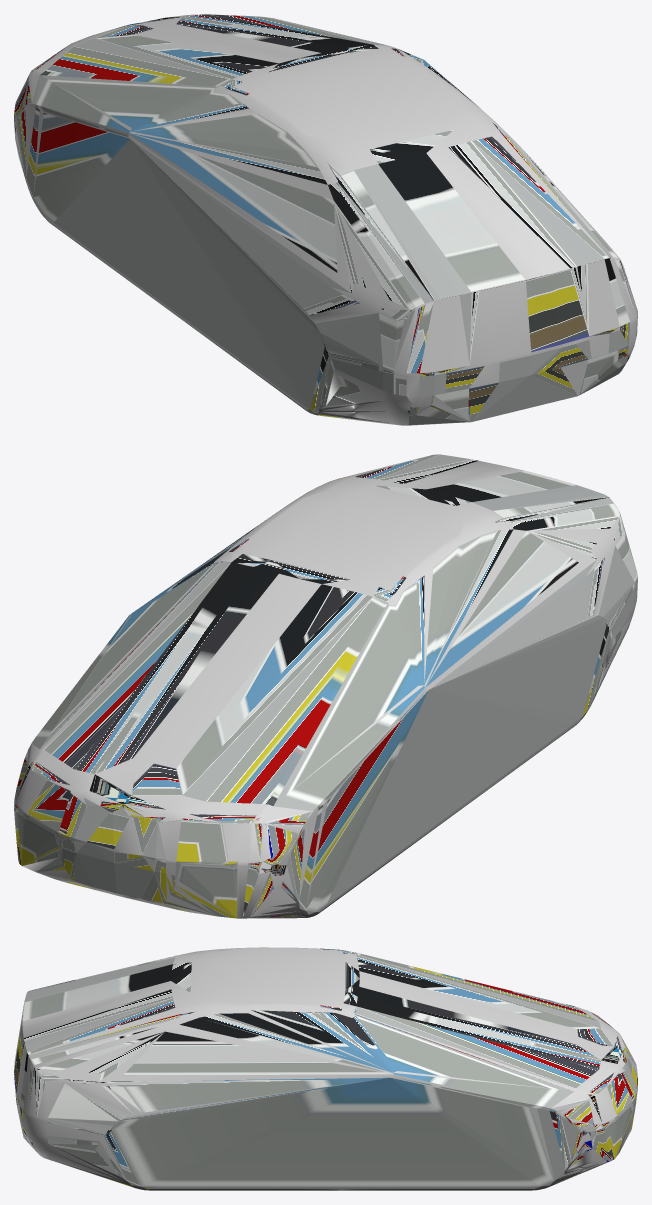
Rendered from m3.glb.hull.glb.
The picture shows the model from 3 angles, top to bottom: view 1: azimuth 30°, elevation 25°; view 2: azimuth 150°, elevation 25°; view 3: azimuth 270°, elevation 25°; orthographic projection. The views are drawn at different scales.
Parts seen in each view (by area): view 1: bmw_m3; view 2: bmw_m3; view 3: bmw_m3.
Part boxes in pixels (x1,y1,x2,y2): bmw_m3: [14, 14, 637, 425]; bmw_m3: [14, 454, 637, 918]; bmw_m3: [14, 947, 637, 1190].
Size of the model in its own units: 8.56 by 6.21 by 20.71.
18 materials, 16 textured.
